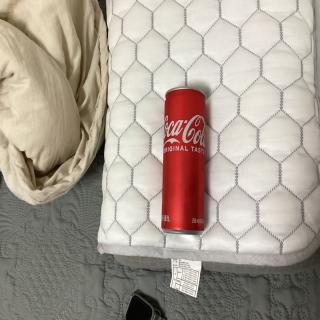cocacola: (160, 84, 213, 244)
